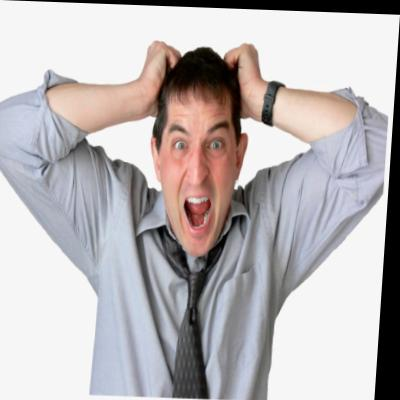angry: (158, 81, 245, 253)
